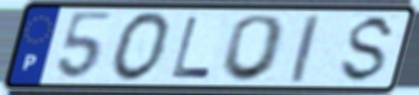5: (54, 10, 118, 84)
I: (289, 12, 323, 85)
L: (168, 14, 213, 80)
O: (218, 13, 290, 84), (108, 10, 175, 84)
S: (336, 13, 399, 86)
